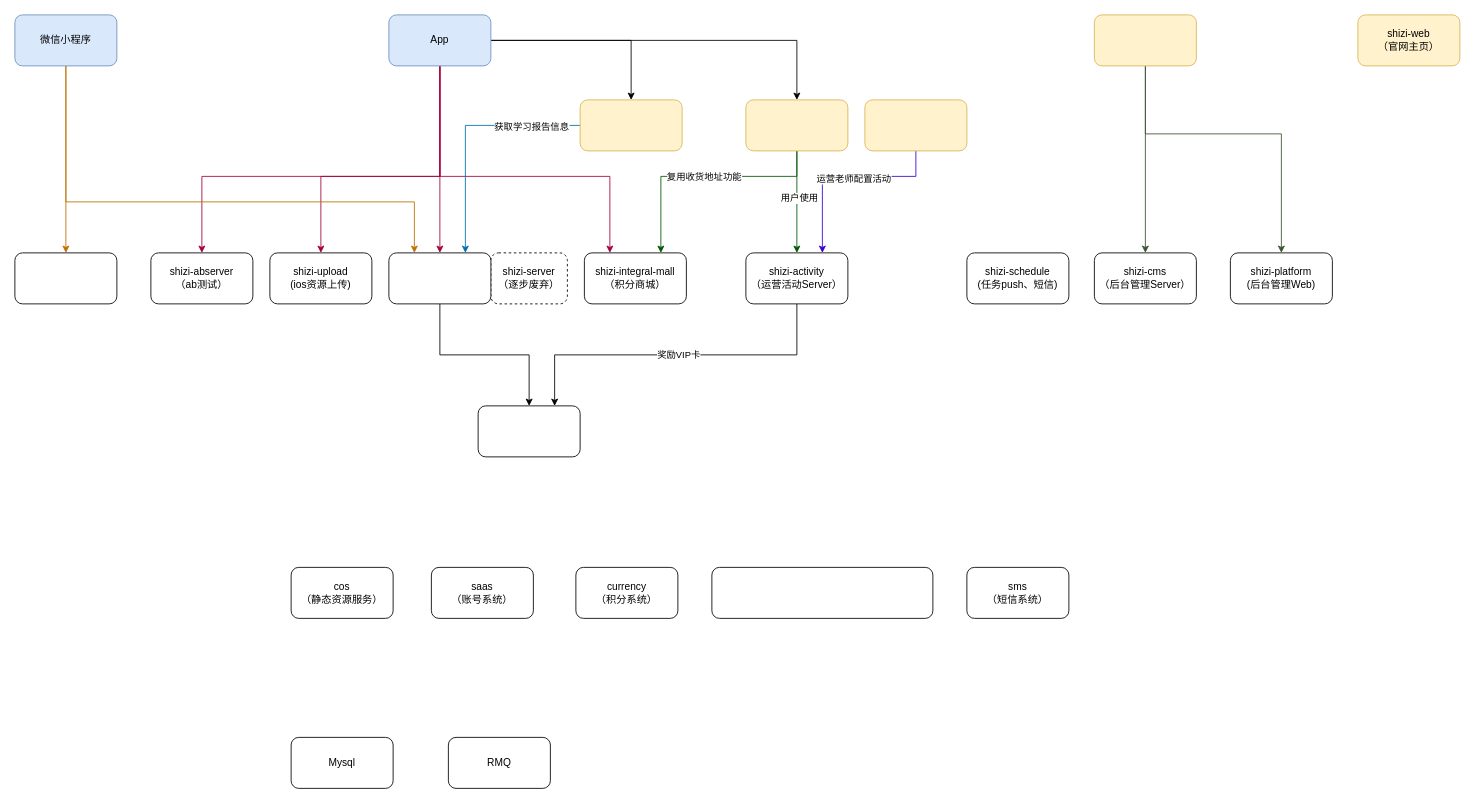
Some shapes in this 1475 by 803 pixel diagram are drawn without their labels. The centre of each missing label's shape, as x and y in pixels:
"H5 (营销活动)" belongs at (x=796, y=125).
"literacyservice （VIP权益系统）" belongs at (x=528, y=431).
"shizi-h5 （App学习报告H5）" belongs at (x=630, y=125).
"shizi-inclass (App课中流程)" belongs at (x=439, y=278).
"shizi-wx-server （微信Web）" belongs at (x=65, y=278).
"售卖体系 （address、billing、bizmkt、goodssearcht）" belongs at (x=822, y=592).
"管理后台（CMS）" belongs at (x=1145, y=40).
"运营后台" belongs at (x=915, y=125).
